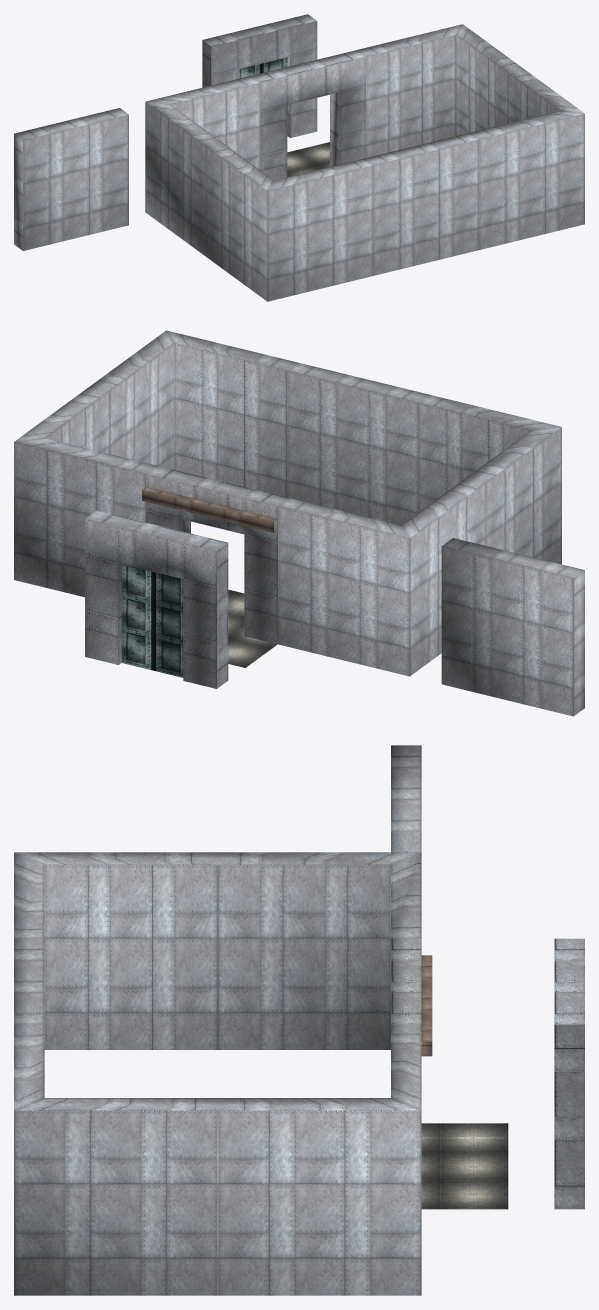
The model's file is Lab.fbx.
The picture shows the model from 3 angles, top to bottom: view 1: azimuth 30°, elevation 25°; view 2: azimuth 150°, elevation 25°; view 3: azimuth 270°, elevation 25°; orthographic projection. The views are drawn at different scales.
Parts seen in each view (by area): view 1: Wall.3, Wall, Walld, Down; view 2: Wall.3, Wall, Walld, Door, Door.1, WK, Down; view 3: Wall.3, Walld, Down, Wall, WK.
Boxes of the visible parts, x1,y1,x2,y2 form: Wall.3: (145, 24, 584, 301); Wall: (14, 108, 128, 250); Walld: (202, 14, 317, 137); Down: (287, 142, 329, 177); Wall.3: (14, 330, 561, 676); Wall: (441, 538, 584, 716); Walld: (85, 510, 228, 688); Door: (121, 564, 153, 670); Door.1: (154, 572, 183, 677); WK: (142, 487, 277, 532); Down: (228, 589, 277, 667); Wall.3: (14, 852, 421, 1295); Walld: (554, 938, 584, 1209); Down: (421, 1123, 508, 1209); Wall: (391, 745, 421, 852); WK: (421, 955, 432, 1056).
Size of the model in its own units: 848 by 200 by 560.
